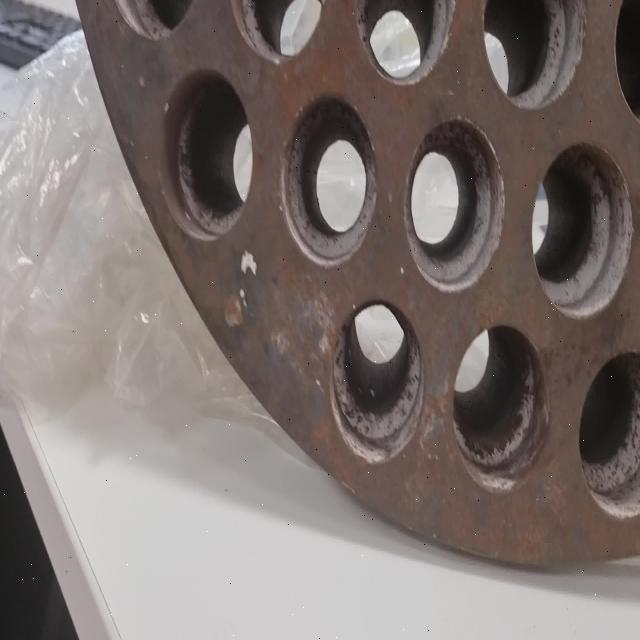Hole: (531, 140, 635, 320), (404, 116, 505, 292), (279, 91, 379, 267), (452, 321, 550, 494), (162, 65, 253, 241), (330, 297, 424, 464), (482, 0, 587, 110), (578, 350, 640, 522), (354, 1, 458, 85)
